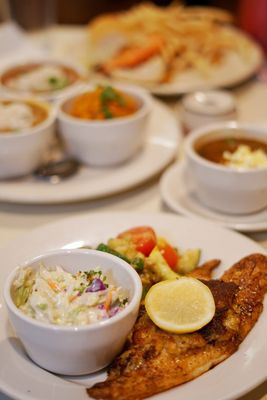sushi: (3, 248, 142, 378), (56, 81, 153, 168), (182, 123, 267, 214), (0, 95, 60, 179)
